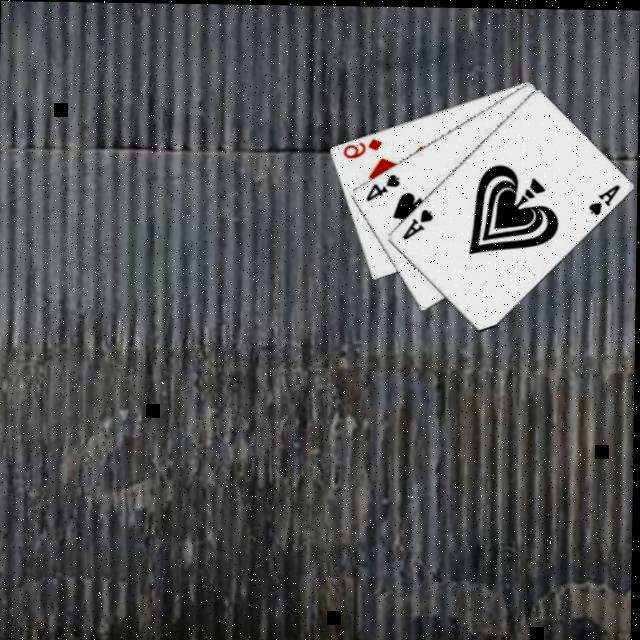4S: (361, 170, 401, 203)
9D: (338, 134, 382, 161)
AS: (583, 180, 621, 218), (398, 205, 434, 243)
